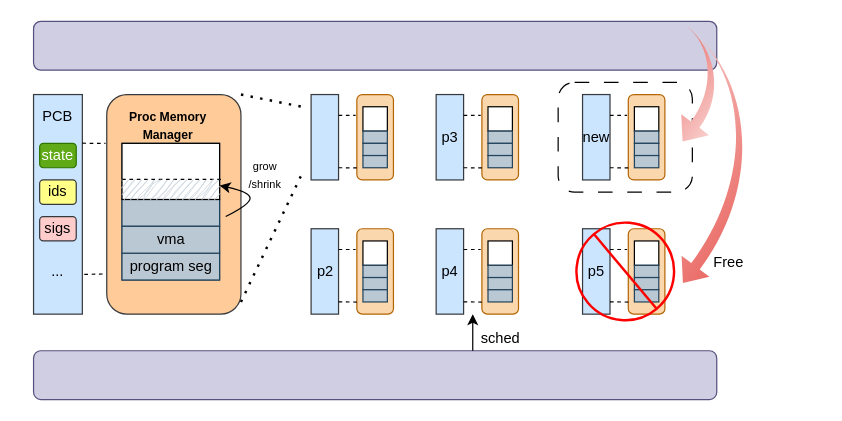
Some shapes in this 842 by 421 pixel diagram are drawn without their labels. Here are the shapes that lost their labels. From the top down, the centre of each, then its label:
At (x=374, y=45): "k_pm 全局进程管理器".
At (x=324, y=136): "p1".
At (x=690, y=158): "Alloc".
At (x=170, y=212): "heap".
At (x=374, y=375): "k_scheduler 全局调度器".
